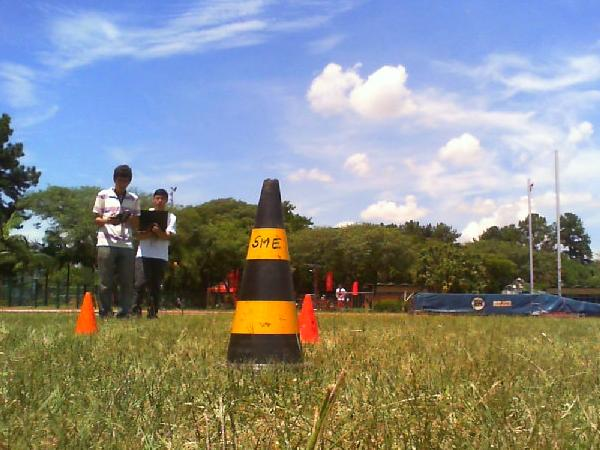0 cone: (225, 178, 311, 371), (297, 294, 319, 344), (73, 293, 99, 335)
